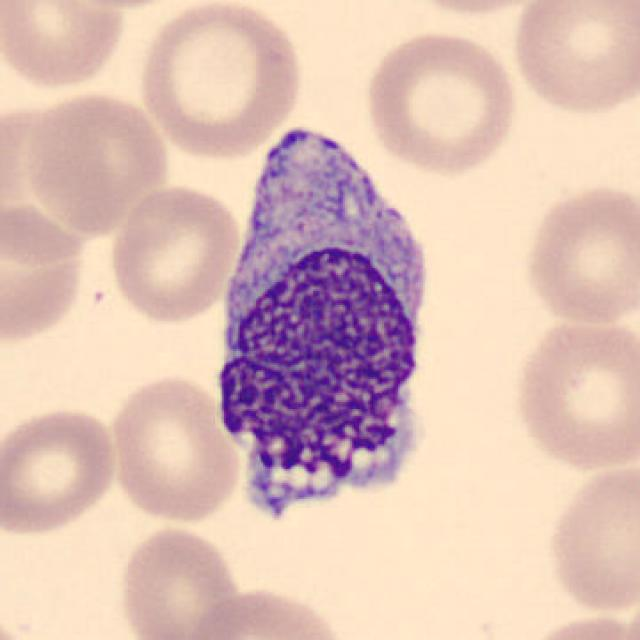Monocyte: (206, 106, 444, 545)
RBC: (135, 0, 307, 160), (361, 27, 521, 178), (18, 86, 172, 236), (103, 370, 245, 527), (508, 309, 638, 474), (105, 180, 243, 326), (518, 178, 638, 330), (0, 402, 123, 539), (507, 0, 638, 120), (114, 522, 247, 640), (540, 458, 638, 617), (0, 197, 92, 349), (0, 0, 132, 95), (183, 583, 352, 640), (518, 610, 638, 640), (389, 0, 562, 18), (42, 0, 202, 12)
